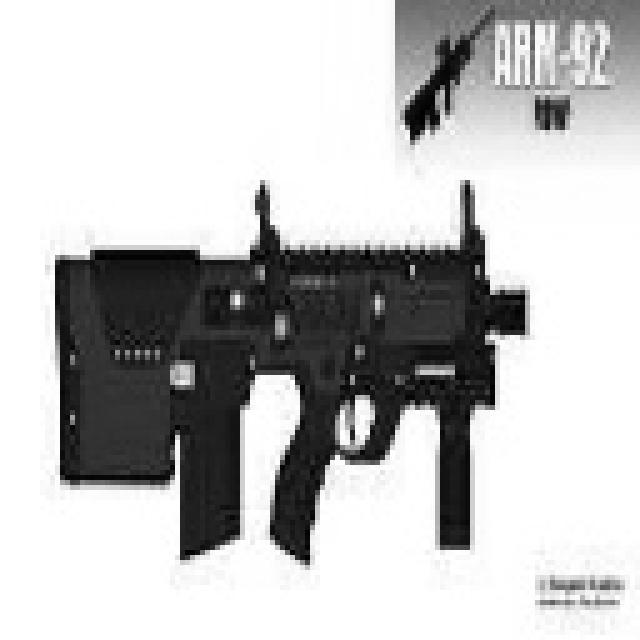Rifle: (0, 177, 576, 589), (397, 15, 560, 154)
